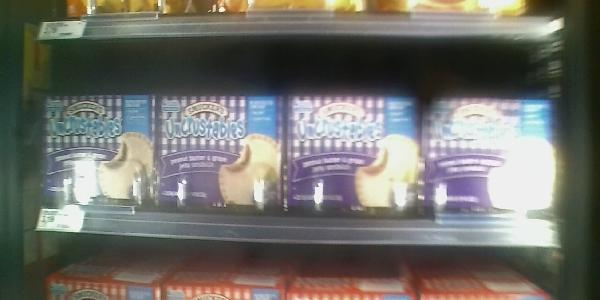icecream: (426, 89, 559, 225), (286, 95, 425, 220), (159, 93, 285, 215), (38, 92, 162, 213)
